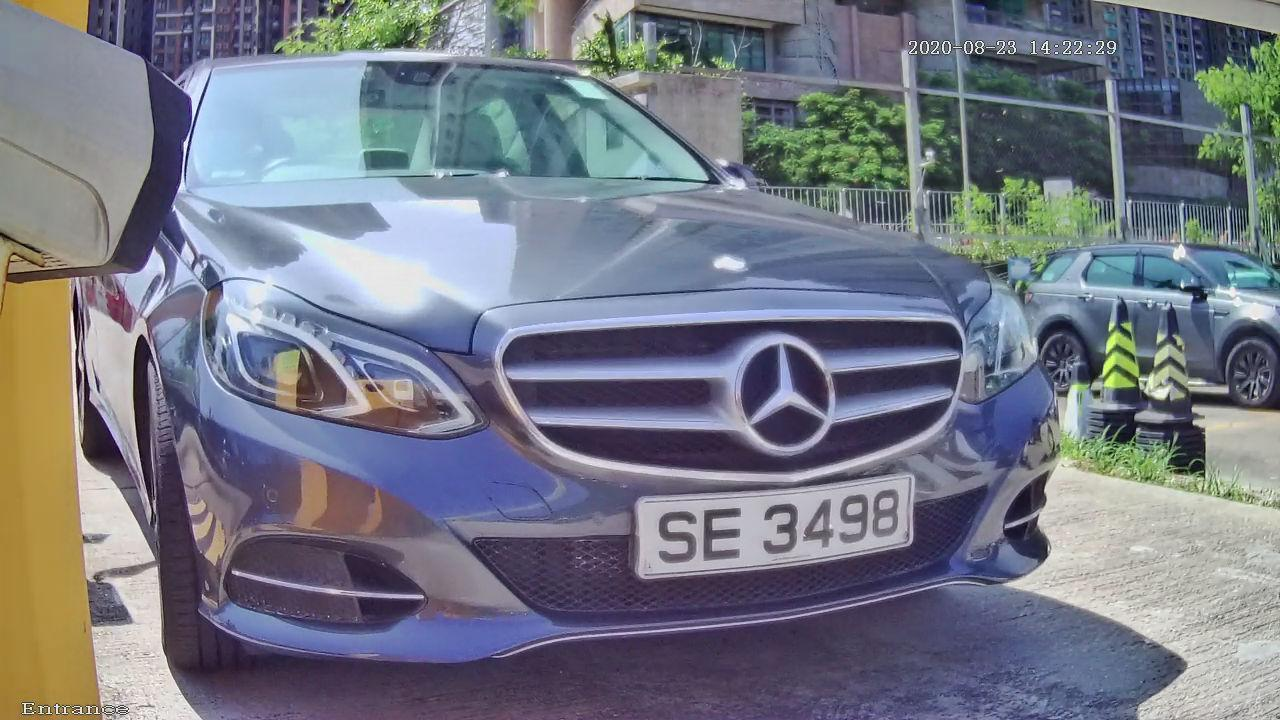Car: (35, 10, 1121, 720)
License Plate: (580, 432, 962, 623)
